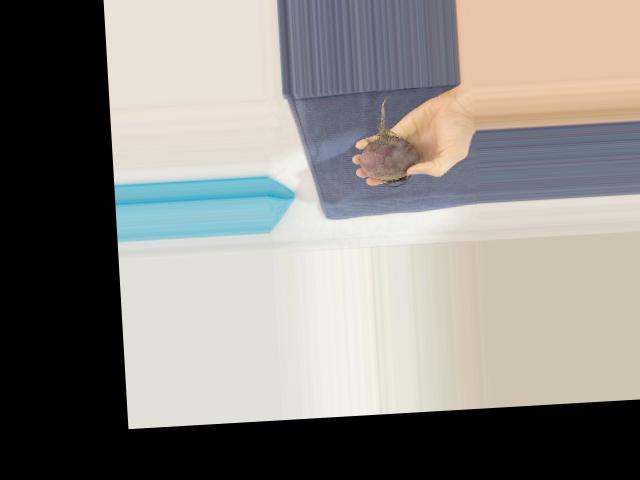beet: (355, 94, 419, 188)
